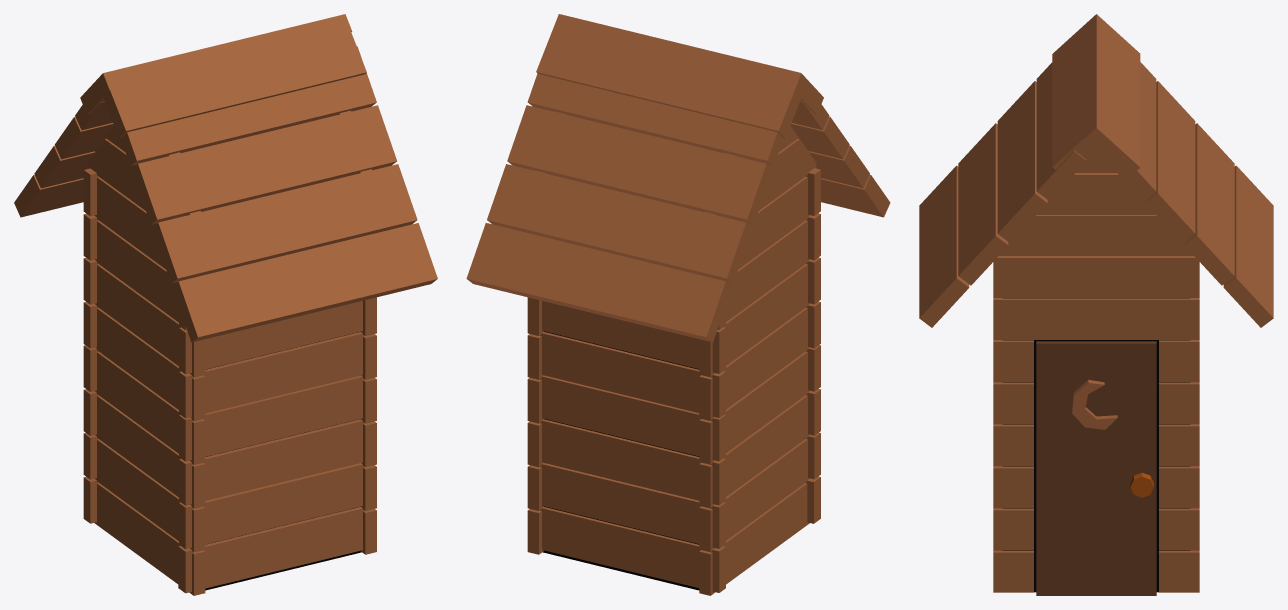
The model's file is Outhouse.fbx.
3 views of the same model, side by side, from view 1: azimuth 30°, elevation 25°; view 2: azimuth 150°, elevation 25°; view 3: azimuth 270°, elevation 25° (orthographic). The views are drawn at different scales.
Visible parts, largest first — view 1: Outhouse; view 2: Outhouse; view 3: Outhouse.
Part boxes in pixels (left/top/right/bottom): Outhouse: left=14, top=14, right=437, bottom=595; Outhouse: left=466, top=14, right=890, bottom=595; Outhouse: left=919, top=14, right=1273, bottom=595.
Size of the model in its own units: 92.03 by 180 by 121.
